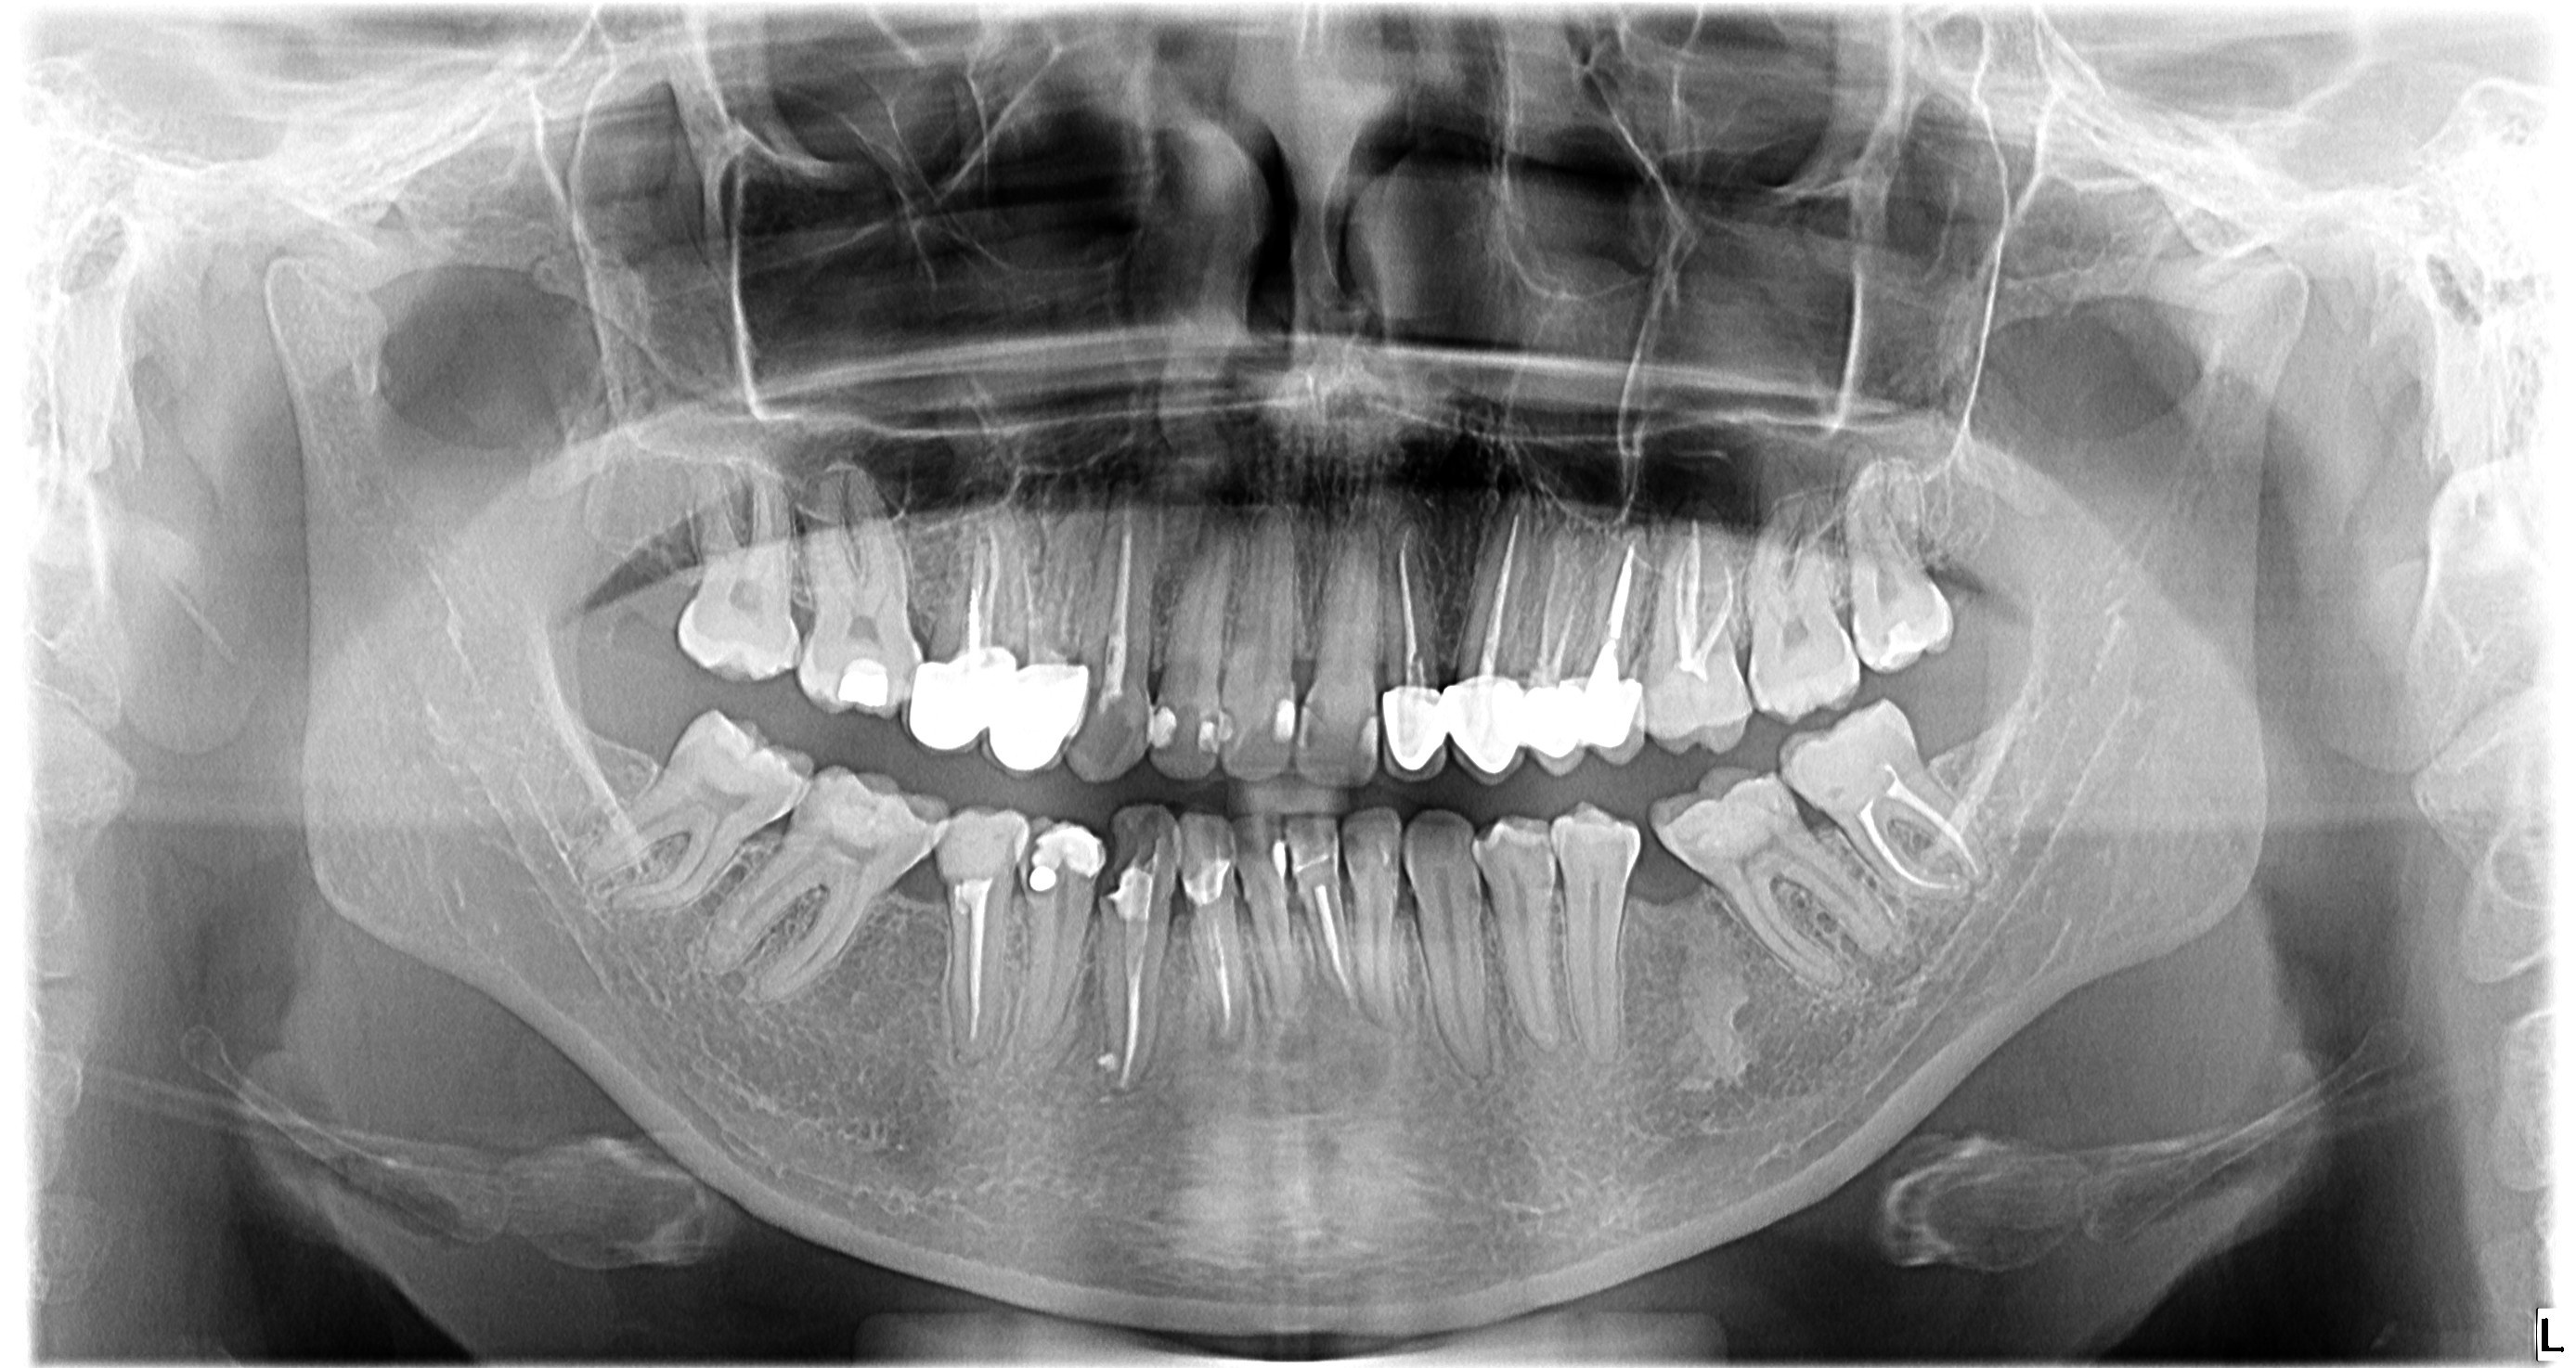BON: (1601, 854, 1731, 930), (871, 842, 968, 927)
END: (1849, 755, 1997, 901), (1665, 513, 1750, 673), (1095, 484, 1153, 700), (947, 484, 1015, 664), (1573, 511, 1646, 678), (1472, 497, 1537, 681), (944, 872, 1009, 1055), (1521, 520, 1590, 685), (1380, 514, 1441, 697), (1102, 893, 1152, 1101), (1305, 879, 1365, 1022), (1189, 882, 1245, 1014)
OBT: (1012, 801, 1106, 891), (1867, 600, 1949, 664), (831, 642, 894, 717), (1135, 688, 1186, 760), (1343, 704, 1382, 773), (1257, 690, 1305, 746), (1193, 700, 1239, 753)
PRR: (1387, 659, 1639, 784), (896, 646, 1087, 780)
